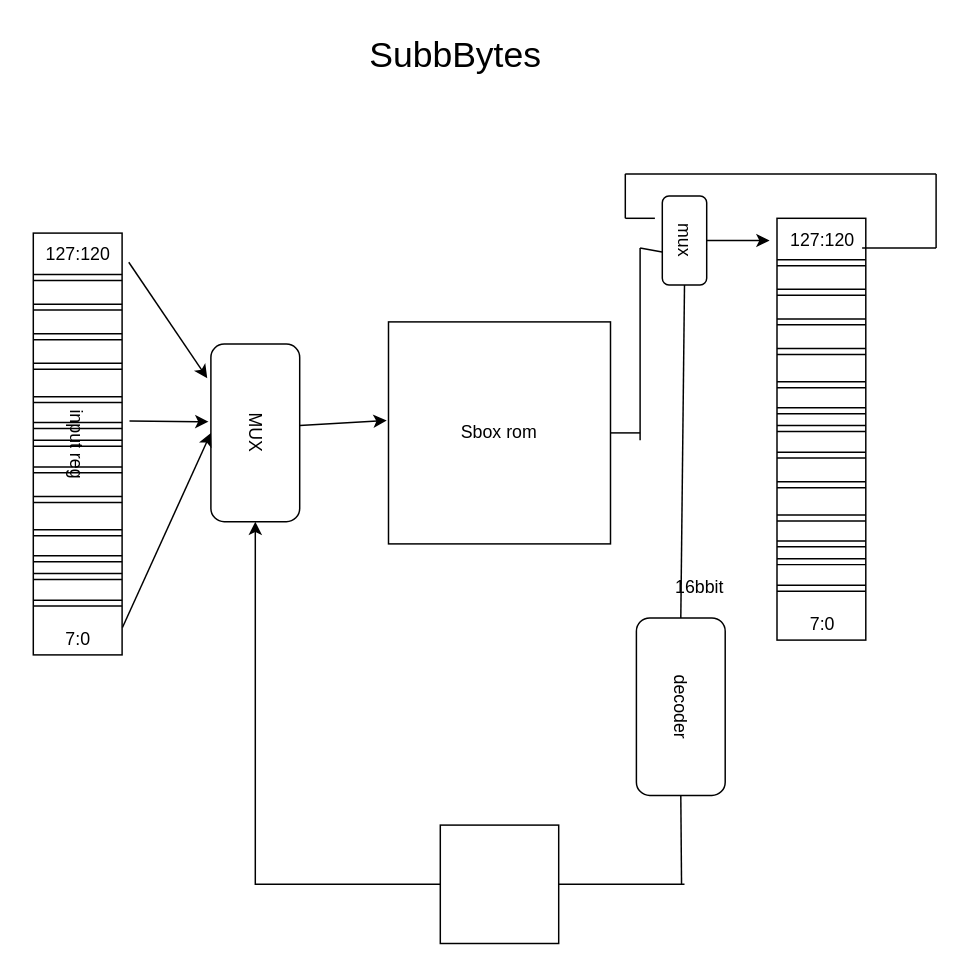
The diagram is 963 pixels wide and 969 high, and some of its shapes have lost their labels. Each missing label, with the centre of its shape:
"counter" belongs at [499,884].
"output reg" belongs at [821,428].
